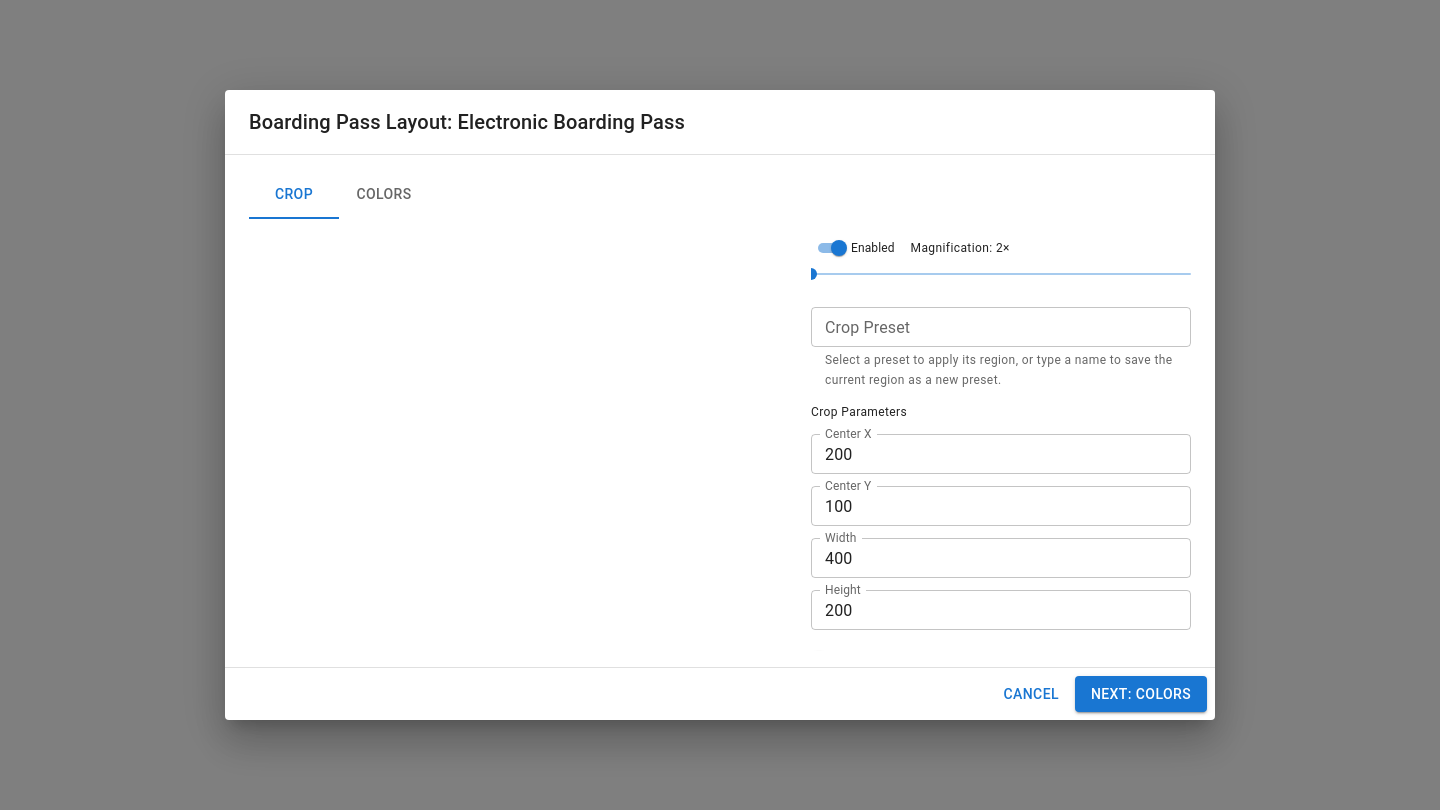
Test: ElectronicBoardingPassStudio › auto-extracts the boarding-pass color from the crop centre
Click the tab "Colors".
click(384, 195)  # box x1=339 y1=171 x2=429 y2=219
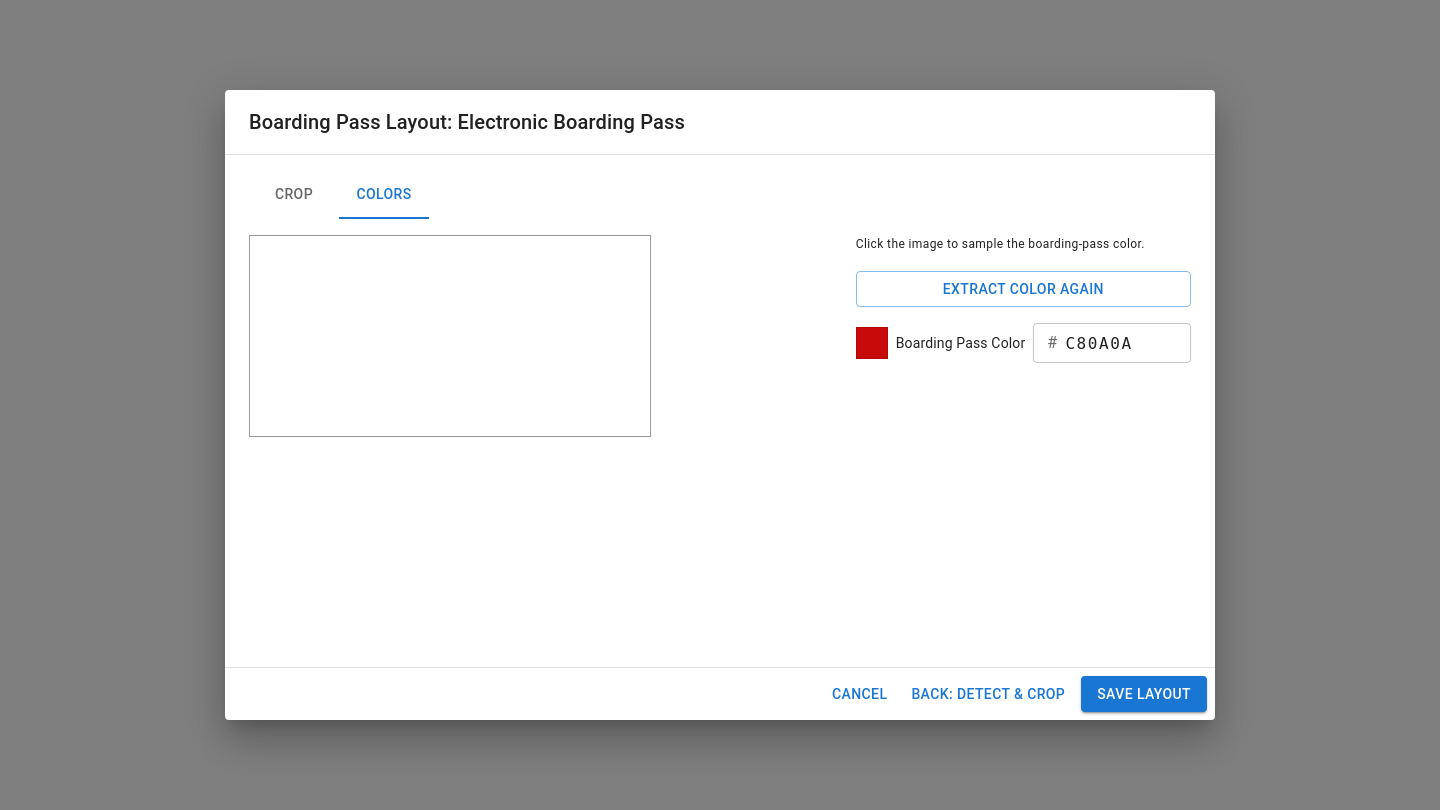
Check: the field holds "C80A0A", box x1=1065 y1=323 x2=1191 y2=363
